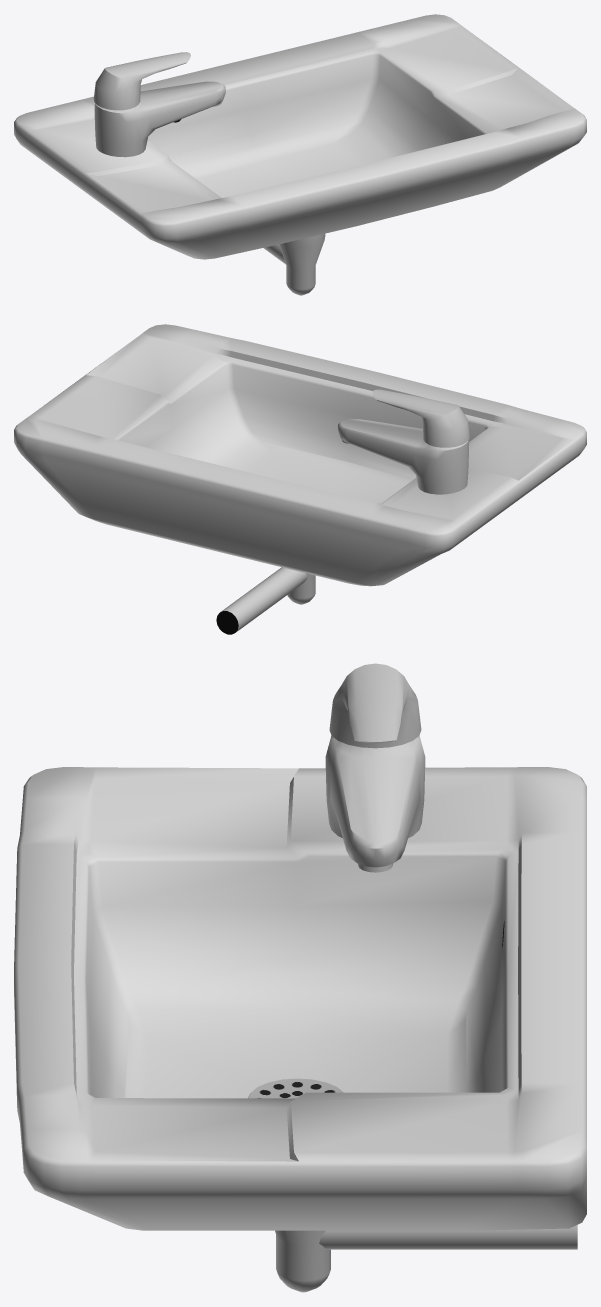
Rendered from sweethome3d-scopia-hand-washbasin.glb.
3 renders of one model, top to bottom at view 1: azimuth 30°, elevation 25°; view 2: azimuth 150°, elevation 25°; view 3: azimuth 270°, elevation 25°, orthographic. The views are drawn at different scales.
Visible parts, largest first — view 1: WashBasin, Faucet, Pipe; view 2: WashBasin, Faucet, Pipe; view 3: WashBasin, Faucet, Pipe, Tap.
Part boxes in pixels (x1,y1,x2,y2): WashBasin: (14, 14, 586, 259); Faucet: (93, 52, 225, 157); Pipe: (263, 233, 325, 295); WashBasin: (14, 324, 586, 586); Faucet: (338, 389, 469, 494); Pipe: (216, 567, 315, 634); WashBasin: (14, 767, 586, 1230); Faucet: (325, 663, 425, 872); Pipe: (275, 1225, 577, 1292); Tap: (248, 1078, 343, 1098).
Bounding box in the file's own units: 49.13 × 27.02 × 29.96.
6 materials, 1 textured.
